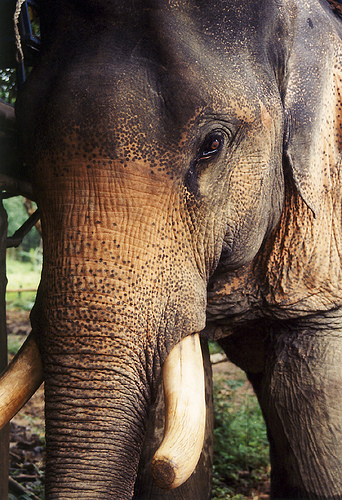elephant: (1, 1, 342, 497)
